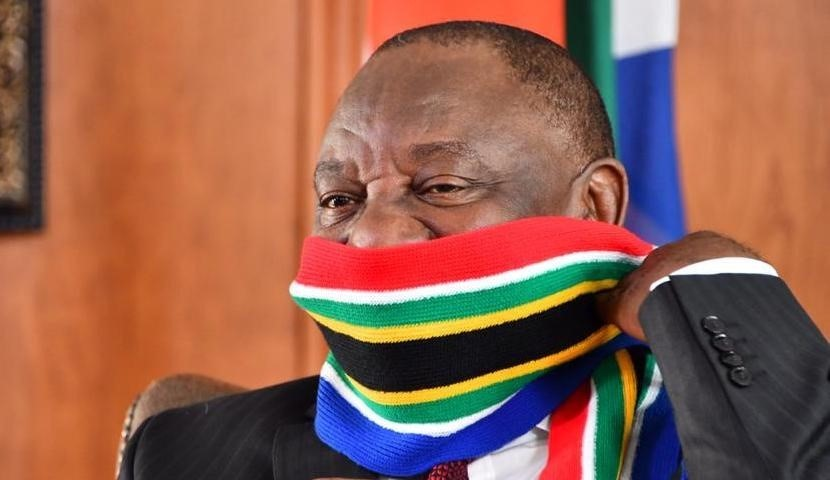face_with_mask: (302, 22, 628, 407)
